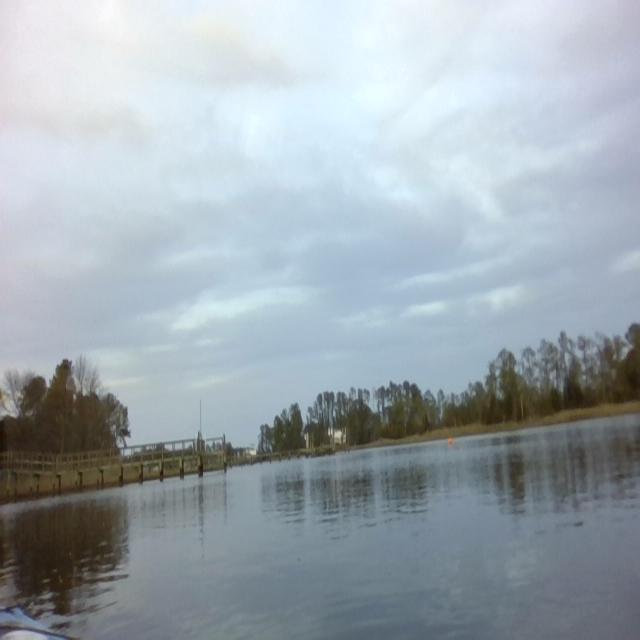Buoy: (449, 436, 455, 452)
